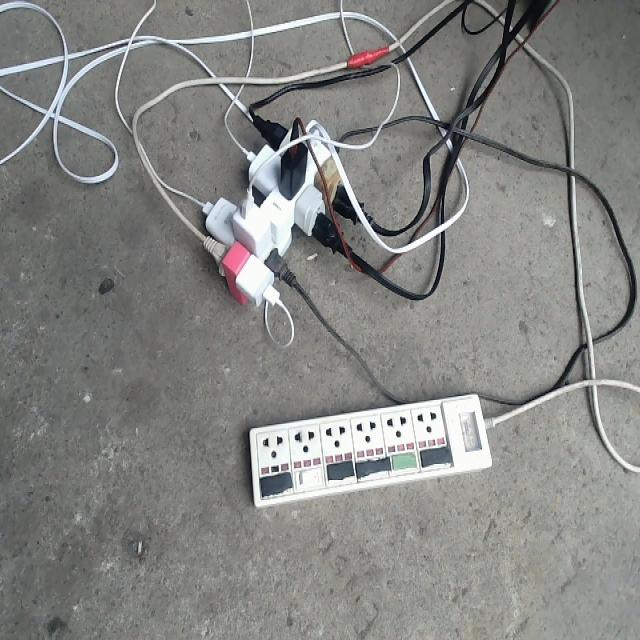-: (193, 109, 371, 308)
